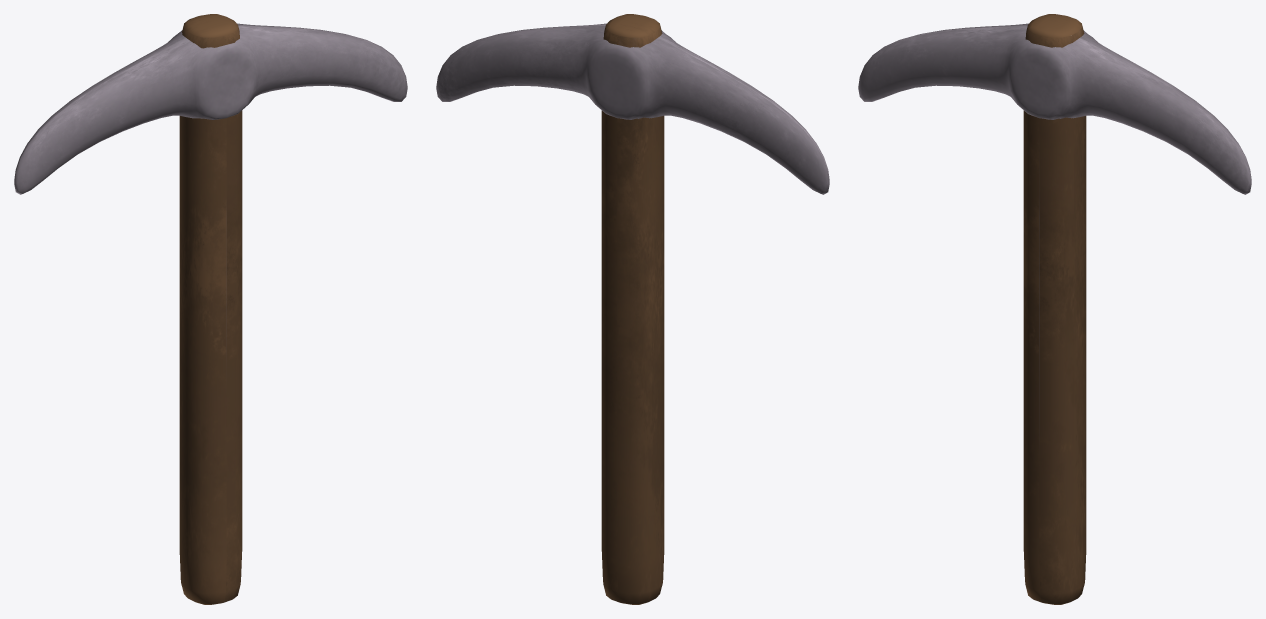
The model's file is pickaxe.fbx.
The picture shows the model from 3 angles, left to right: view 1: azimuth 30°, elevation 25°; view 2: azimuth 150°, elevation 25°; view 3: azimuth 330°, elevation 25°; orthographic projection.
Parts seen in each view (by area): view 1: pickaxe; view 2: pickaxe; view 3: pickaxe.
Boxes of the visible parts, box(x1,y1,x2,y2) form: pickaxe: box(14, 14, 407, 604); pickaxe: box(436, 14, 829, 604); pickaxe: box(858, 14, 1251, 604).
Size of the model in its own units: 115 by 160 by 17.57.
1 material, 1 textured.
